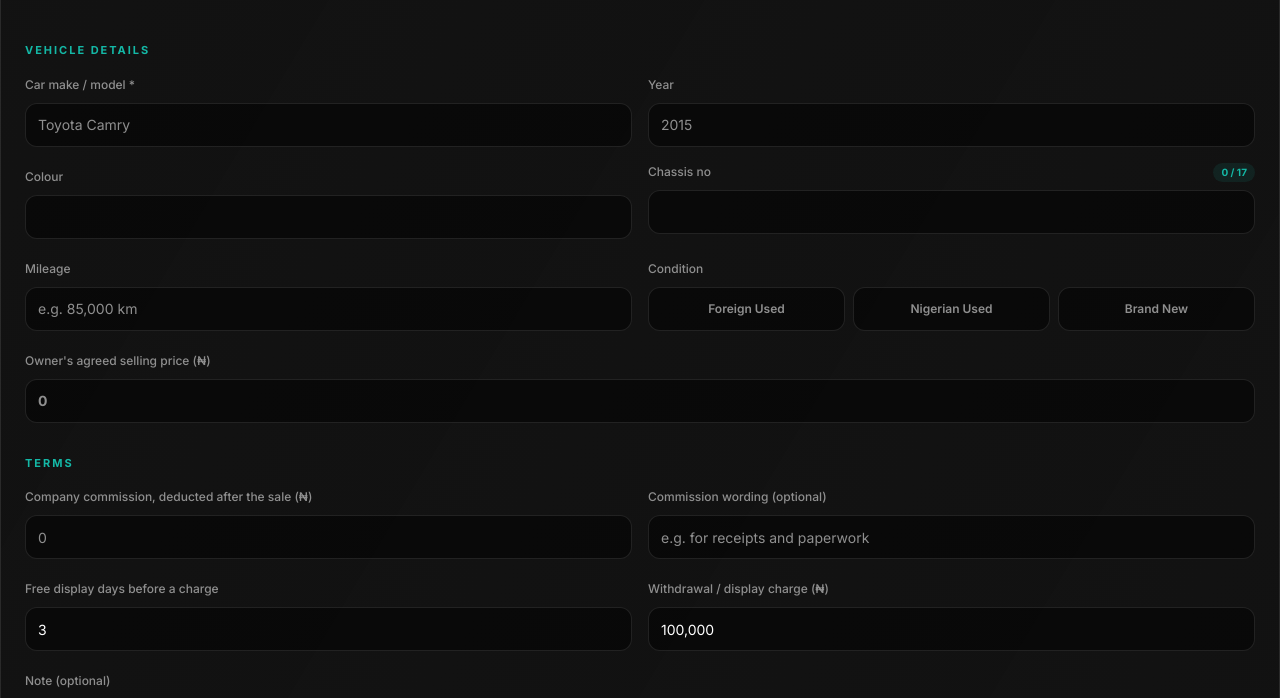
Vehicle Display / Consignment Agreement › spells the agreed selling price out in words as it is typed
(page scrolled)
Type "8500000" into the field labelled "Owner's agreed selling price (₦)" at [640, 400], box left=25, top=378, right=1255, bottom=422
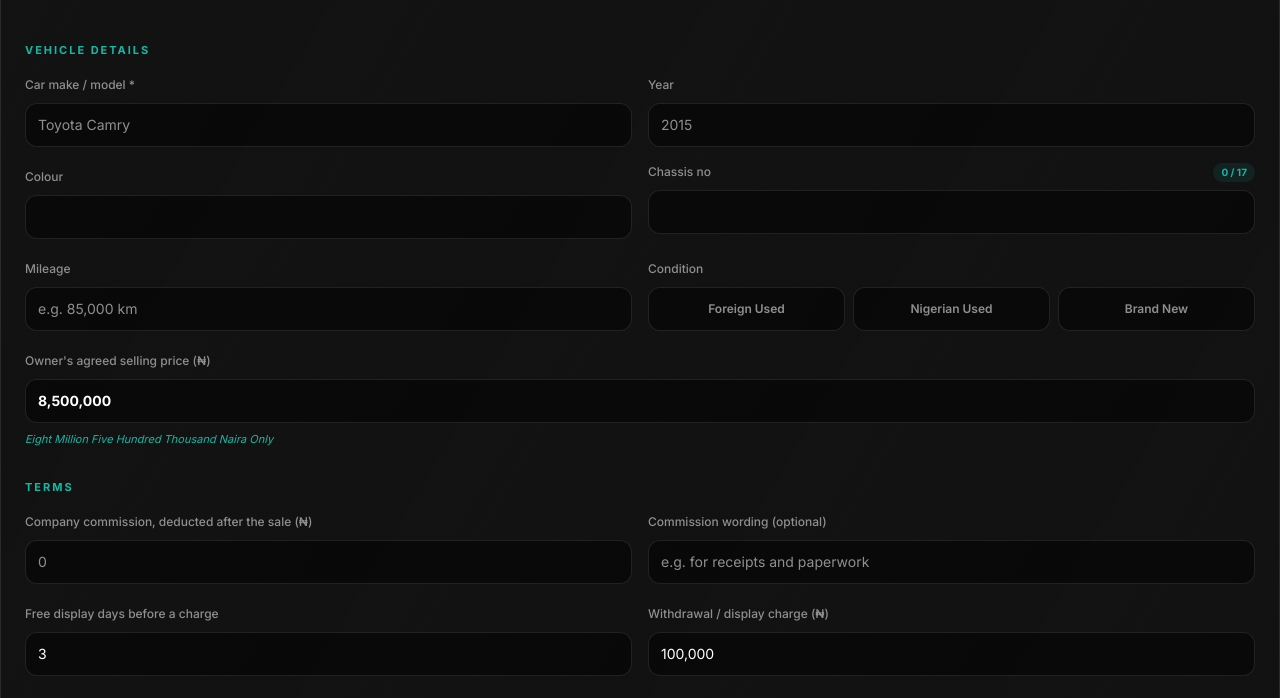
Expected: the field labelled "Owner's agreed selling price (₦)" holds "8,500,000", left=25, top=378, right=1255, bottom=422
Expected: the text "Eight Million Five Hundred Thousand Naira Only" is shown, left=25, top=432, right=273, bottom=446
